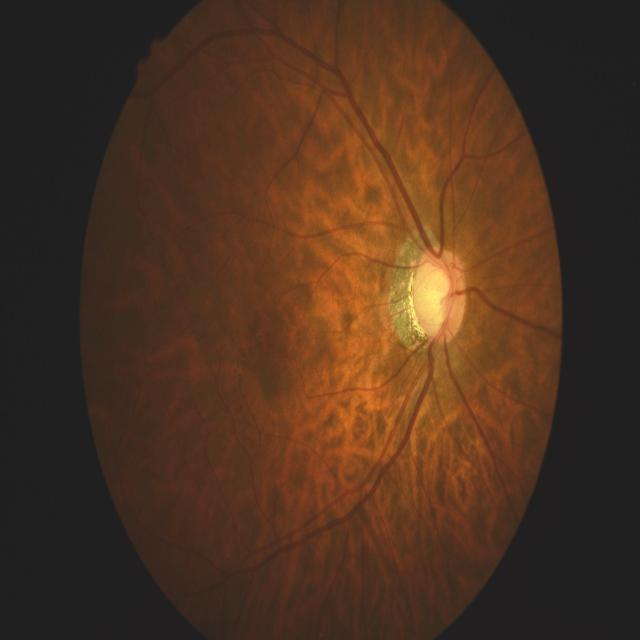cup: (417, 261, 455, 337)
disk: (412, 244, 467, 346)
